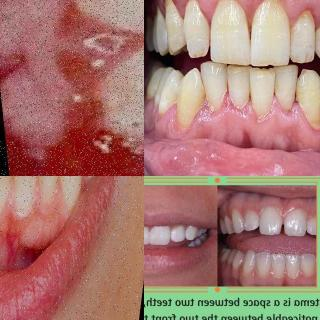Gum Swelling: (0, 0, 144, 176), (187, 94, 320, 140)
maligned: (174, 68, 206, 134), (247, 67, 278, 119), (299, 67, 320, 131)
plaque: (301, 98, 320, 141), (162, 0, 180, 37)
